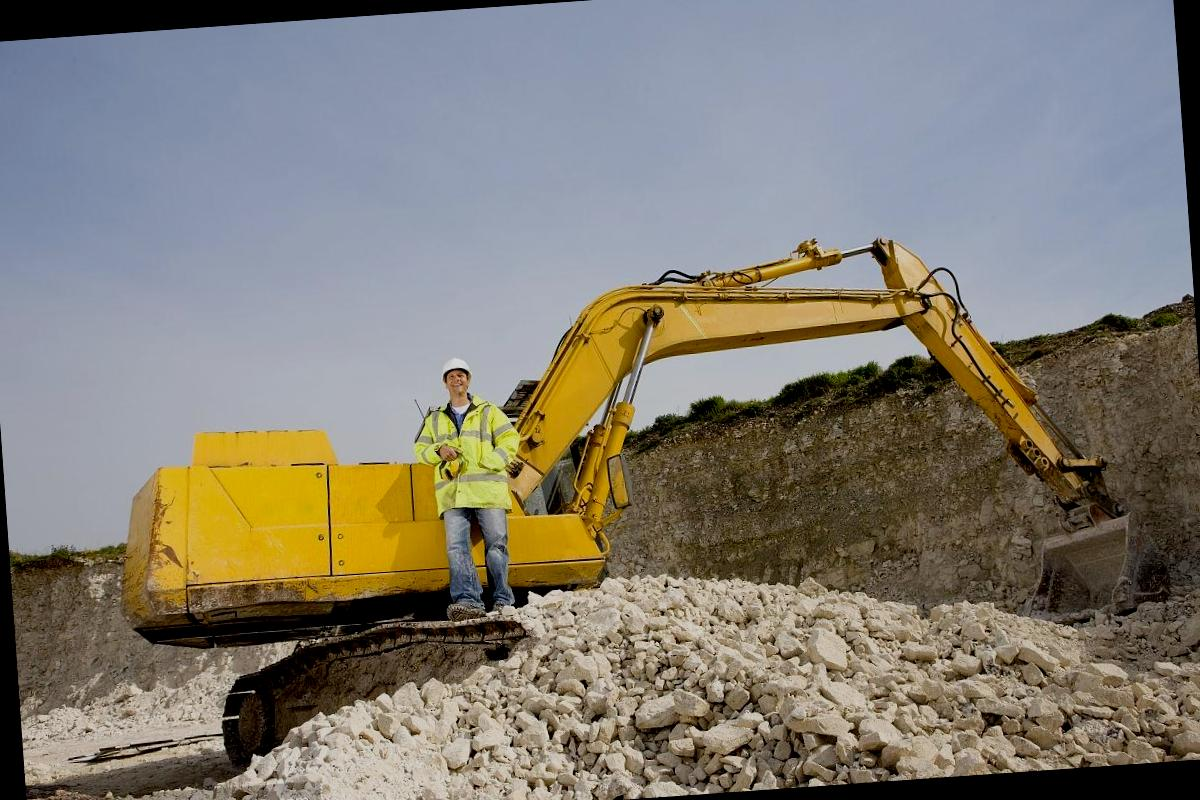helmet: (431, 353, 474, 394)
person: (403, 349, 540, 623)
